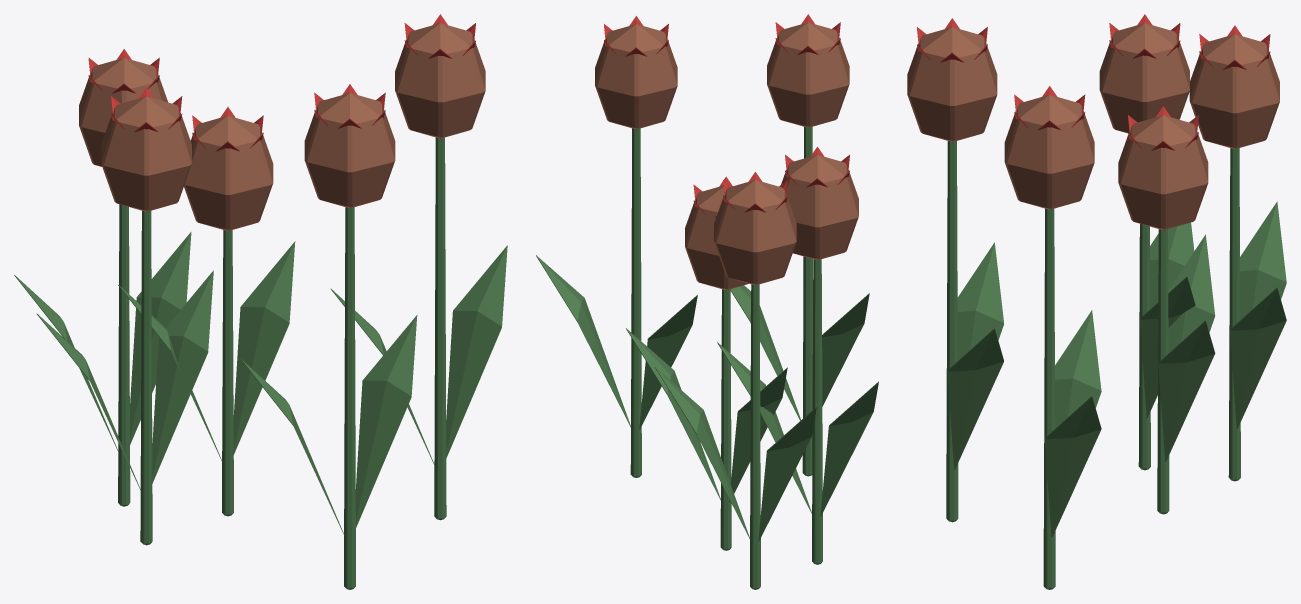
Rendered from b08_tulip_cluster.glb.
The picture shows the model from 3 angles, left to right: view 1: azimuth 30°, elevation 25°; view 2: azimuth 150°, elevation 25°; view 3: azimuth 270°, elevation 25°; orthographic projection. The views are drawn at different scales.
Parts seen in each view (by area): view 1: b08_tulip_cluster; view 2: b08_tulip_cluster; view 3: b08_tulip_cluster.
Part boxes in pixels (<box>): b08_tulip_cluster: <box>14,14,507,589</box>; b08_tulip_cluster: <box>536,14,878,589</box>; b08_tulip_cluster: <box>907,14,1286,589</box>.
Size of the model in its own units: 0.5514 by 0.617 by 0.4299.
